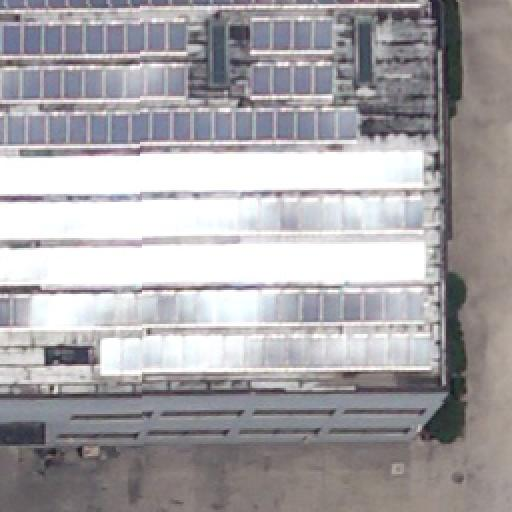solar-panel: (0, 148, 424, 196), (0, 241, 424, 287), (0, 193, 424, 239), (0, 287, 424, 329), (97, 328, 431, 372), (1, 108, 359, 148), (0, 64, 188, 100), (0, 20, 186, 56), (0, 0, 428, 8), (248, 62, 336, 98), (249, 16, 335, 52)
